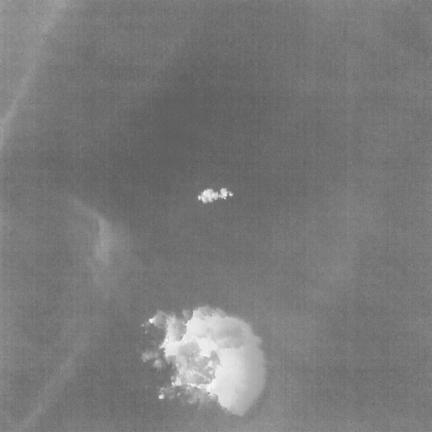flukeprints: (142, 307, 266, 415)
